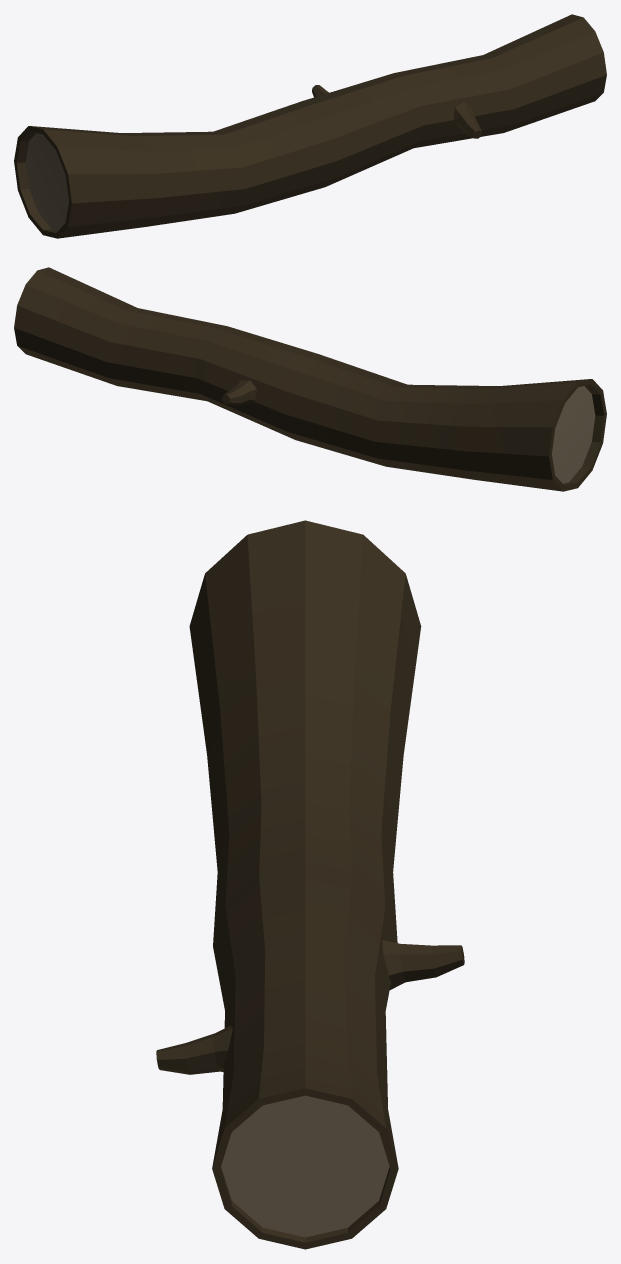
File: FullLog.fbx
The picture shows the model from 3 angles, top to bottom: view 1: azimuth 30°, elevation 25°; view 2: azimuth 150°, elevation 25°; view 3: azimuth 270°, elevation 25°; orthographic projection. The views are drawn at different scales.
Parts seen in each view (by area): view 1: polySurface1, polySurface2; view 2: polySurface1, polySurface3; view 3: polySurface1, polySurface3, polySurface2.
Boxes of the visible parts, <box> form: polySurface1: <box>14,14,606,238</box>; polySurface2: <box>453,102,481,138</box>; polySurface1: <box>14,267,606,491</box>; polySurface3: <box>221,380,256,406</box>; polySurface1: <box>189,520,421,1249</box>; polySurface3: <box>382,940,464,989</box>; polySurface2: <box>156,1025,232,1074</box>.
Size of the model in its own units: 17.67 by 3.92 by 4.36.
